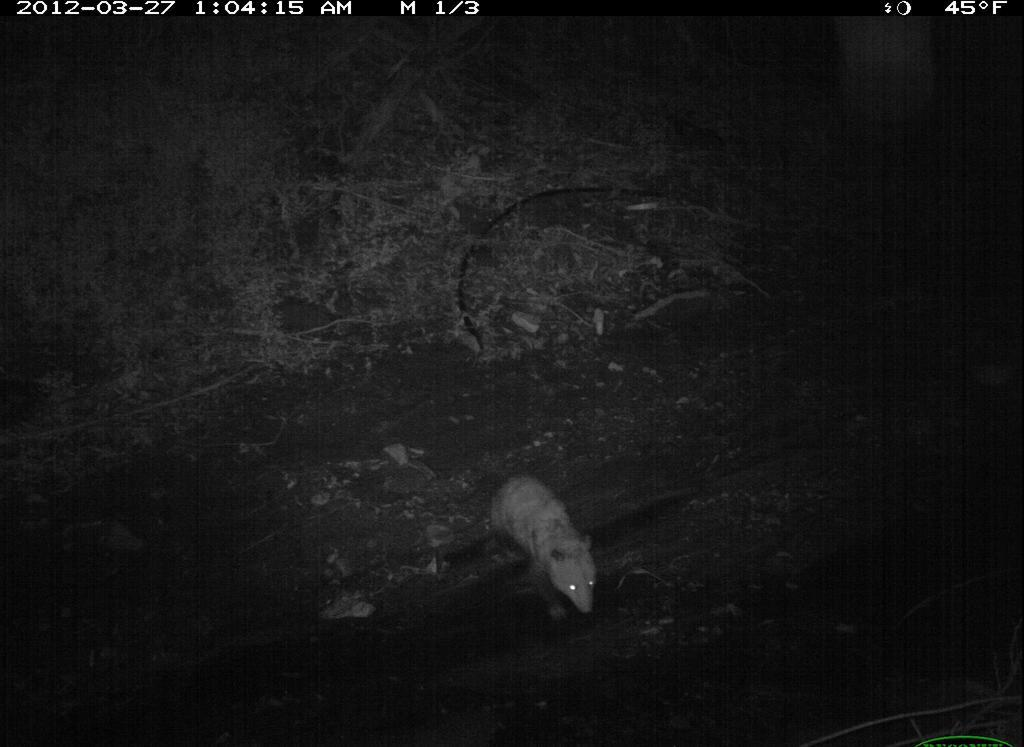opossum: (452, 471, 600, 623)
